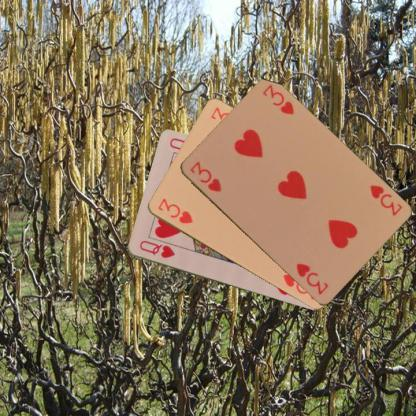3h: (366, 182, 403, 217), (188, 159, 223, 193), (155, 196, 194, 226)
Qh: (136, 237, 176, 260)
